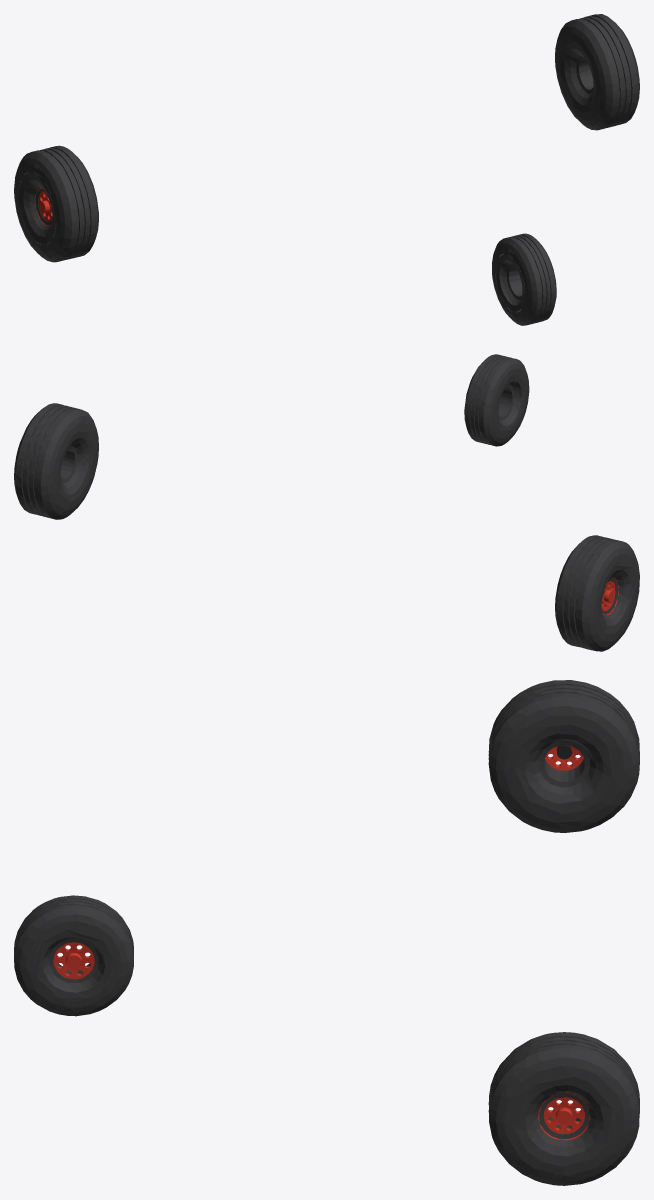
Rendered from da40-wheels-lite.glb.
3 renders of one model, top to bottom at view 1: azimuth 30°, elevation 25°; view 2: azimuth 150°, elevation 25°; view 3: azimuth 270°, elevation 25°, orthographic. The views are drawn at different scales.
Parts seen in each view (by area): view 1: Tundra tyre L, Tundra tyre R, Tundra tyre N; view 2: Tundra tyre L, Tundra tyre R, Tundra tyre N; view 3: Tundra tyre R, Tundra tyre L, Tundra tyre N, Beringer wheel L, Beringer wheel N.
Boxes of the visible parts, x1,y1,x2,y2 form: Tundra tyre L: (555,14,639,130); Tundra tyre R: (14,145,98,262); Tundra tyre N: (492,233,556,325); Tundra tyre L: (14,403,98,519); Tundra tyre R: (555,535,639,651); Tundra tyre N: (464,354,529,446); Tundra tyre R: (488,680,639,832); Tundra tyre L: (488,1032,639,1185); Tundra tyre N: (14,895,133,1016); Beringer wheel L: (538,1092,590,1140); Beringer wheel N: (53,942,94,979).
Size of the model in its own units: 3.29 by 0.5571 by 2.3.
